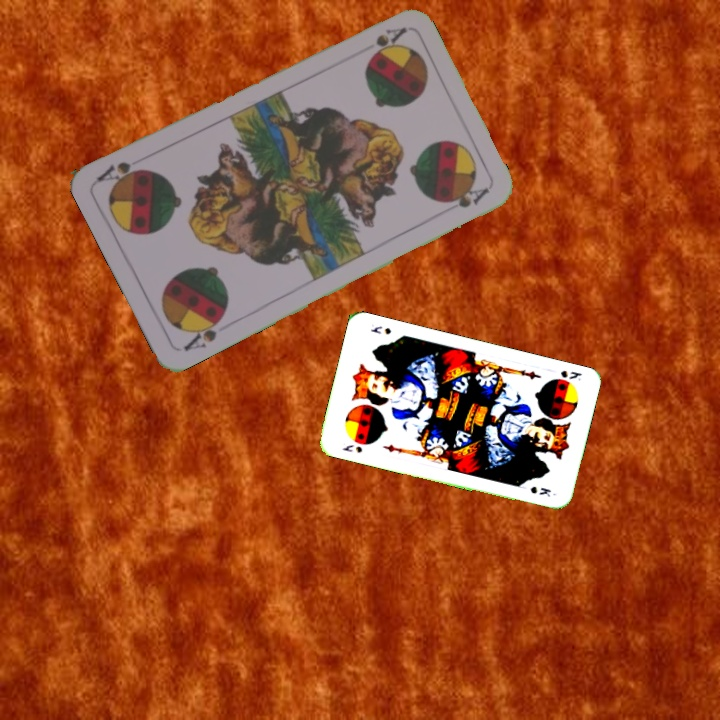SA: (179, 310, 227, 354), (371, 23, 409, 50)
SK: (557, 366, 584, 383), (338, 441, 365, 455)
